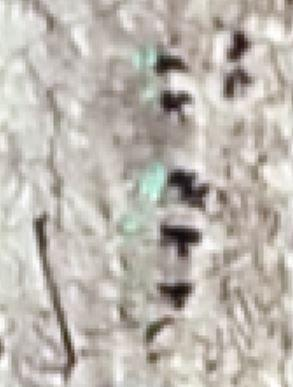cotton: (141, 166, 166, 199), (121, 217, 148, 237), (133, 48, 158, 69), (142, 86, 158, 108)
